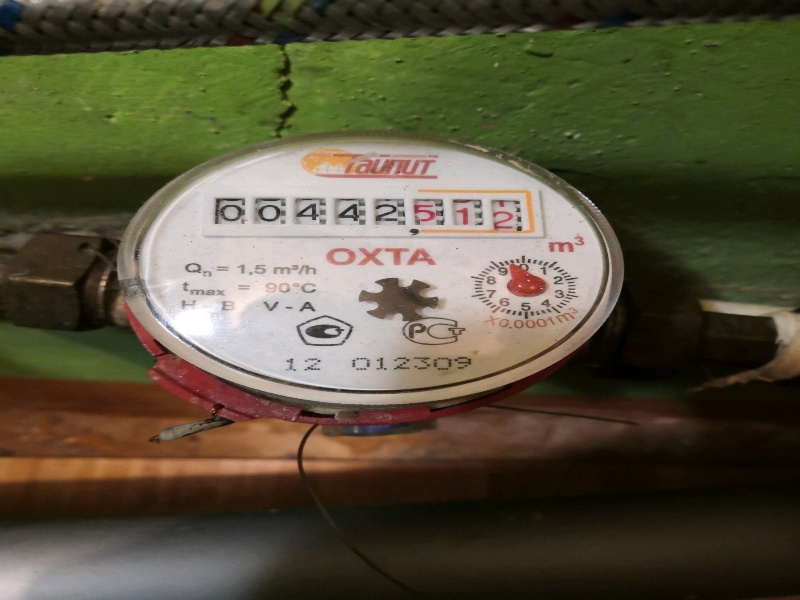dial: (207, 180, 538, 236)
